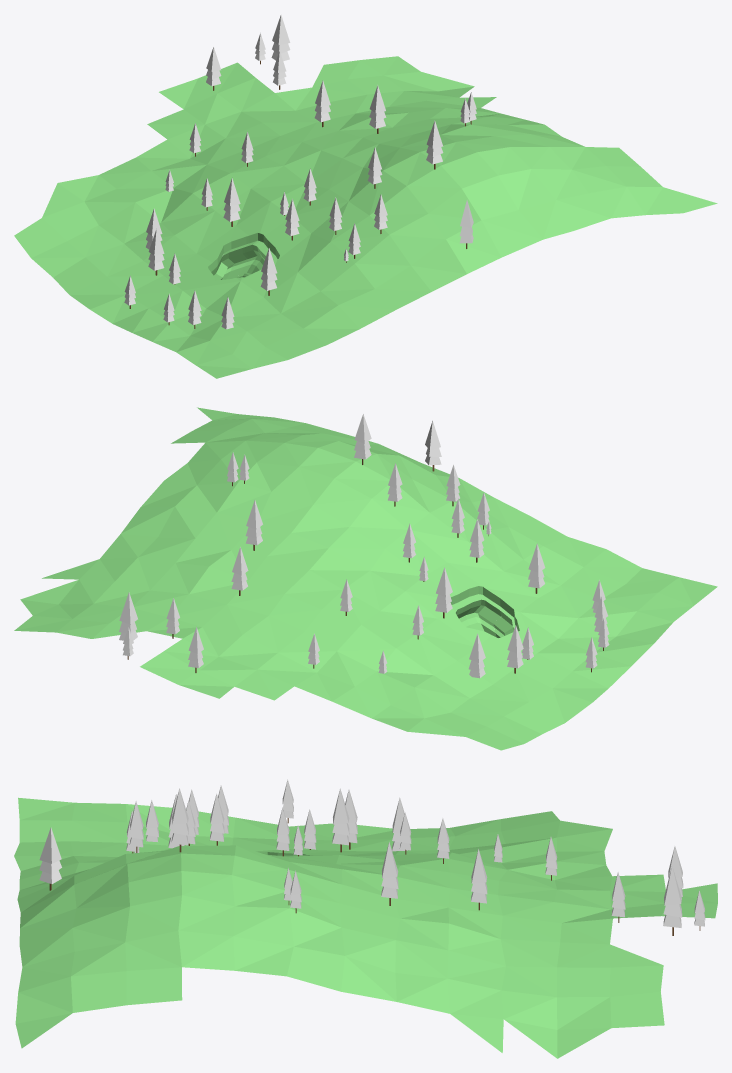
File: forest_scene_op.glb
3 renders of one model, top to bottom at view 1: azimuth 30°, elevation 25°; view 2: azimuth 150°, elevation 25°; view 3: azimuth 270°, elevation 25°, orthographic. The views are drawn at different scales.
Visible parts, largest first — view 1: Plane; view 2: Plane, Cube.24, TreeOne, Cube.17, Cube.12; view 3: Plane, Cube.20, Cube.24, TreeOne, Cube.12, Cube.17, Cube.06, Cube.29, Cube.02, Cube.16.
Boxes of the visible parts, box(x1,y1,x2,y2) form: Plane: box(14, 56, 717, 378); Plane: box(14, 407, 717, 750); Cube.24: box(119, 592, 137, 640); TreeOne: box(354, 414, 371, 464); Cube.17: box(245, 500, 262, 550); Cube.12: box(435, 567, 452, 618); Plane: box(14, 797, 717, 1058); Cube.20: box(39, 827, 61, 890); Cube.24: box(663, 865, 682, 935); TreeOne: box(171, 788, 188, 852); Cube.12: box(332, 788, 349, 852); Cube.17: box(381, 842, 398, 905); Cube.06: box(471, 849, 487, 910); Cube.29: box(210, 793, 224, 845); Cube.02: box(129, 801, 143, 852); Cube.16: box(611, 872, 625, 922).
Size of the model in its own units: 318 by 123 by 296.
